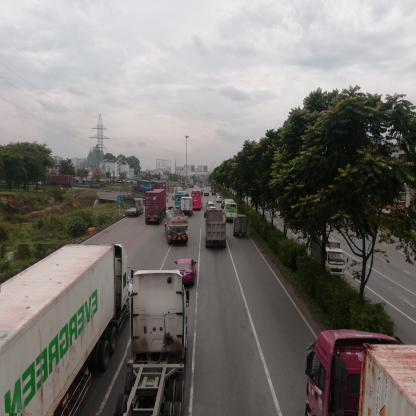bus: (226, 200, 239, 220), (193, 191, 204, 210)
car: (178, 259, 198, 282)
container: (2, 245, 128, 415), (304, 326, 416, 416), (134, 271, 187, 416), (147, 190, 167, 224), (51, 177, 74, 189), (132, 181, 155, 192)
truck: (207, 211, 228, 249), (168, 212, 189, 248), (327, 241, 347, 274), (125, 199, 144, 218), (234, 215, 249, 238), (183, 198, 193, 210)
